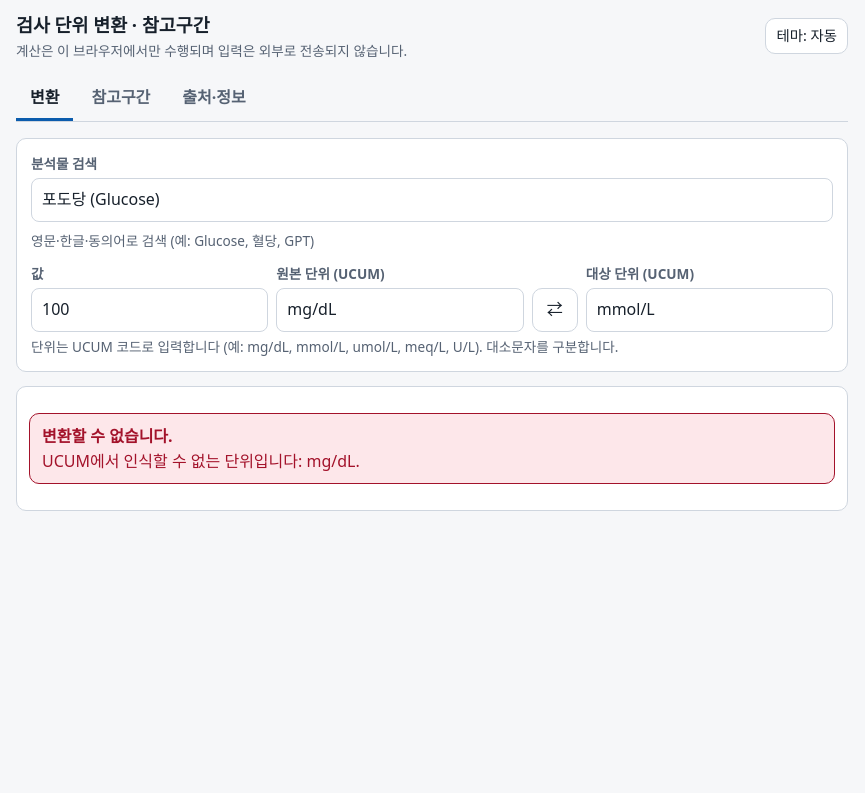
Test case: 앱 스모크 › 참고구간 탭: 번들 데이터가 비어 있으면 안내하고 구간을 지어내지 않는다
Click the tab "참고구간": (121, 99) [78,77,164,121]
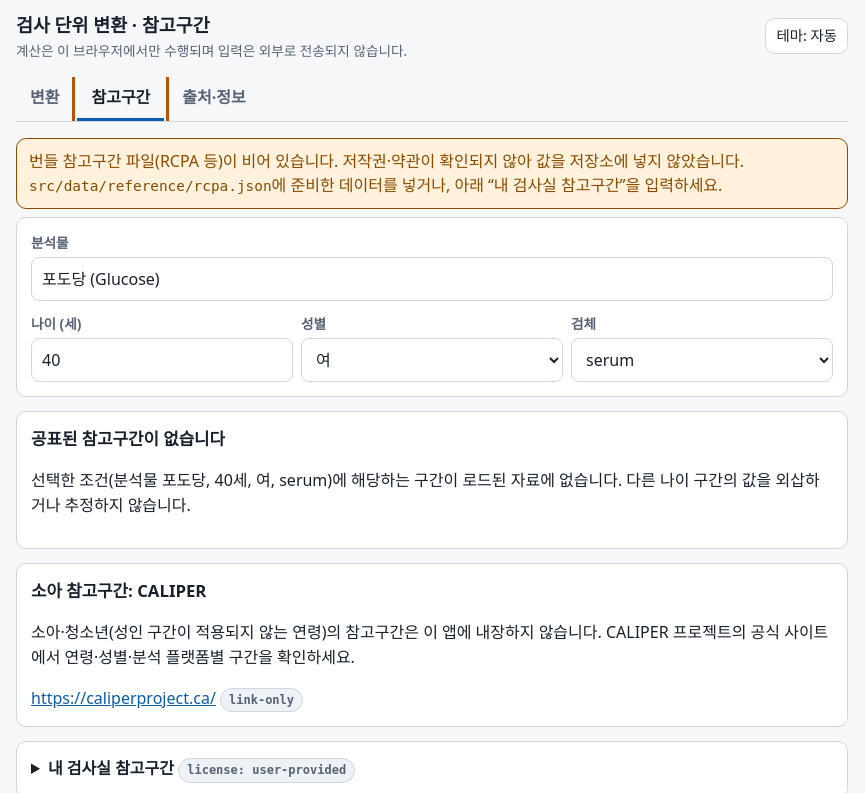
Expected: the text "번들 참고구간 파일(RCPA 등)이 비어 있습니다" is shown, [29,150,744,172]
Expected: the heading "공표된 참고구간이 없습니다" is shown, [31,427,225,450]
Expected: the heading "소아 참고구간: CALIPER" is shown, [31,579,206,602]
